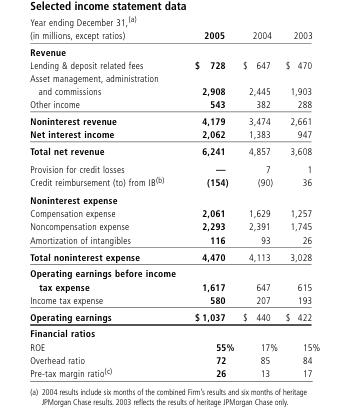table: (29, 28, 319, 378)
table column: (29, 28, 184, 378), (184, 28, 237, 378), (237, 28, 280, 378), (280, 28, 319, 378)
table column header: (29, 28, 319, 42)
table projected row header: (29, 190, 319, 206), (29, 42, 319, 57), (29, 324, 319, 339)
table row: (29, 264, 319, 292), (29, 70, 319, 97), (29, 142, 319, 159), (29, 247, 319, 264), (29, 307, 319, 324), (29, 174, 319, 190), (29, 190, 319, 206), (29, 42, 319, 57), (29, 97, 319, 112), (29, 112, 319, 127), (29, 127, 319, 142), (29, 159, 319, 174), (29, 232, 319, 247), (29, 292, 319, 307), (29, 324, 319, 339), (29, 28, 319, 42), (29, 57, 319, 70), (29, 206, 319, 219), (29, 219, 319, 232), (29, 339, 319, 352), (29, 352, 319, 365), (29, 365, 319, 378)
